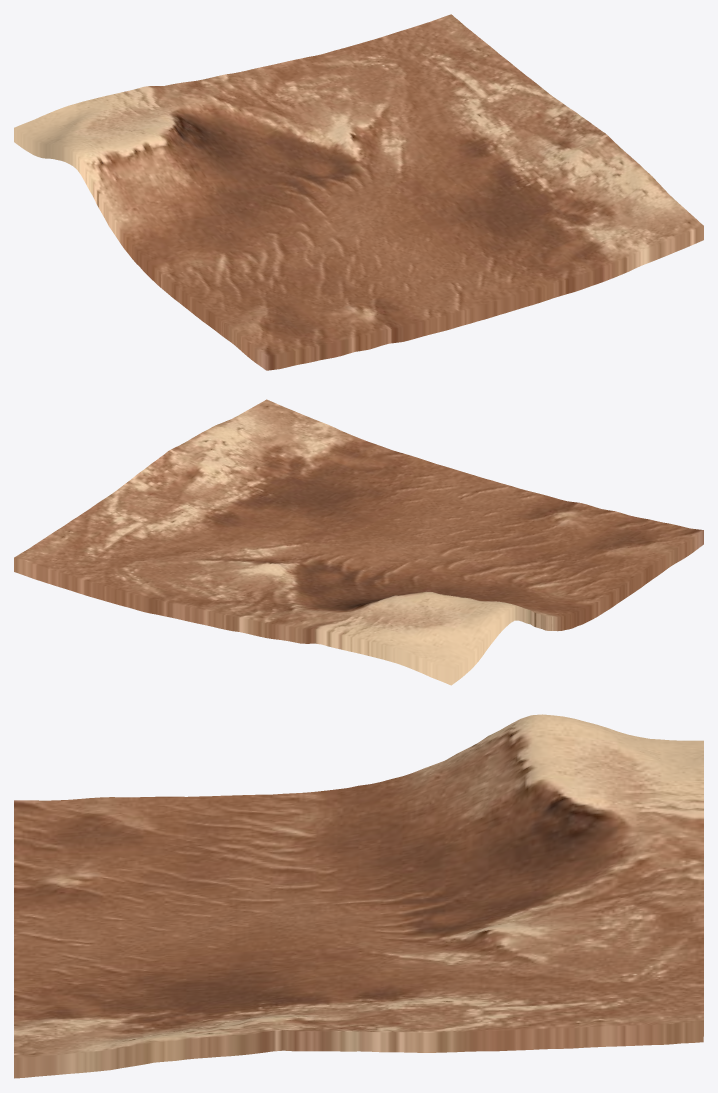
3 renders of one model, top to bottom at view 1: azimuth 30°, elevation 25°; view 2: azimuth 150°, elevation 25°; view 3: azimuth 270°, elevation 25°, orthographic. The views are drawn at different scales.
Parts seen in each view (by area): view 1: L6_23_19; view 2: L6_23_19; view 3: L6_23_19.
Part boxes in pixels (x1=…): L6_23_19: x1=14, y1=14, x2=703, y2=370; L6_23_19: x1=14, y1=399, x2=703, y2=685; L6_23_19: x1=14, y1=714, x2=703, y2=1078.
Size of the model in its own units: 225 by 40.44 by 225.
Materials: 1 (1 with a texture image).
